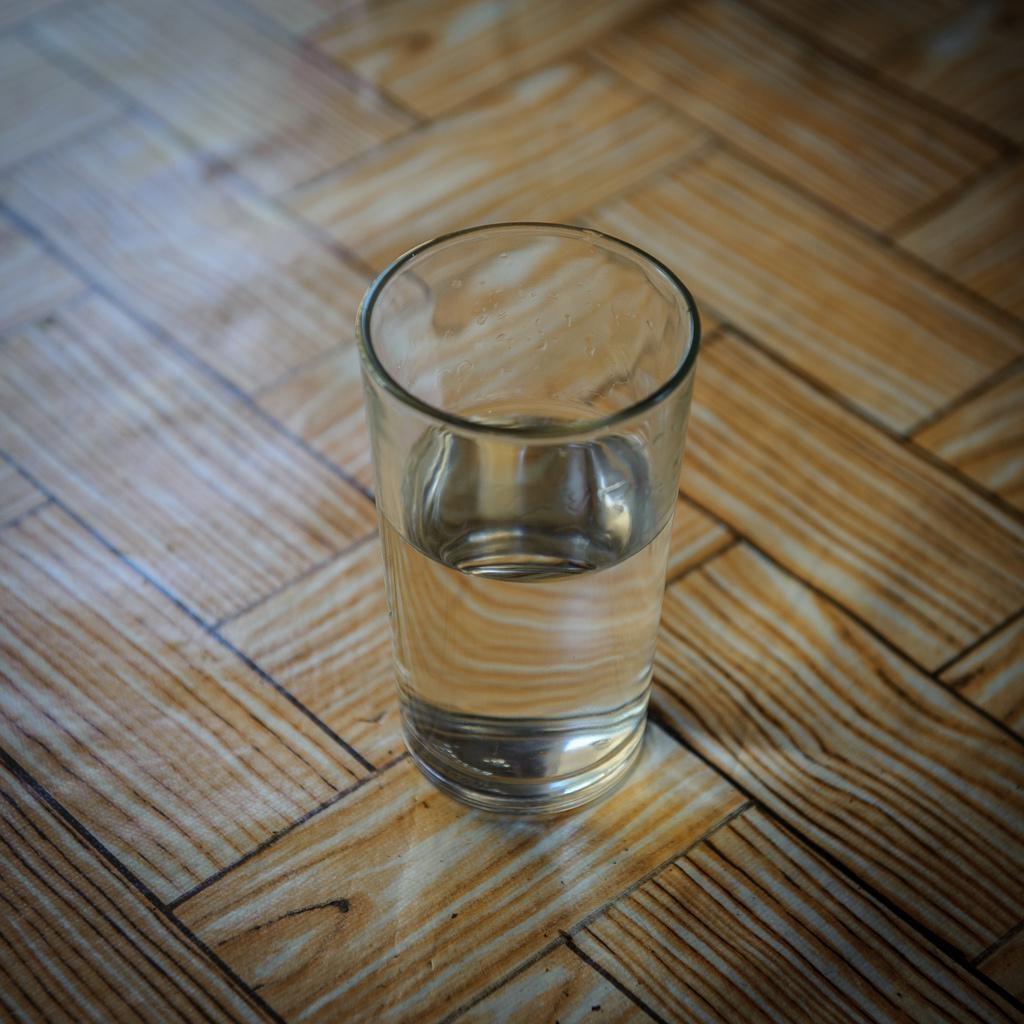glass-normal: (351, 221, 706, 817)
